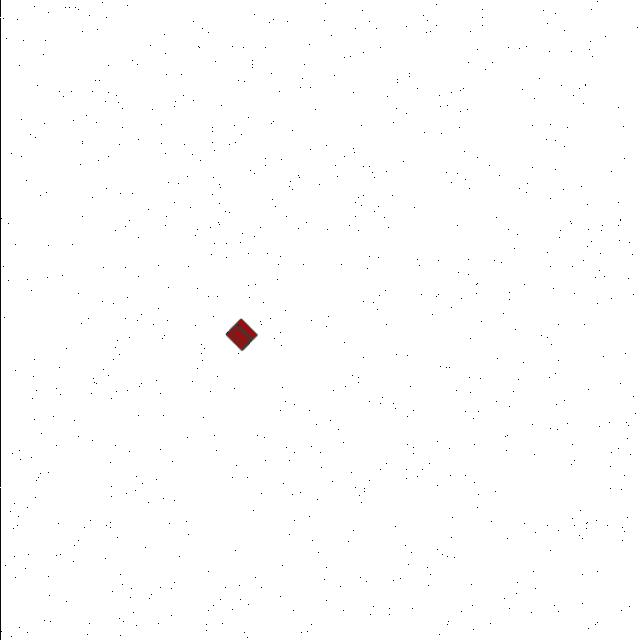3070b: (220, 316, 260, 356)
